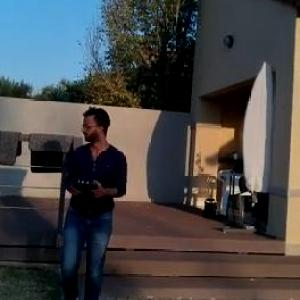follow: (54, 101, 131, 299)
